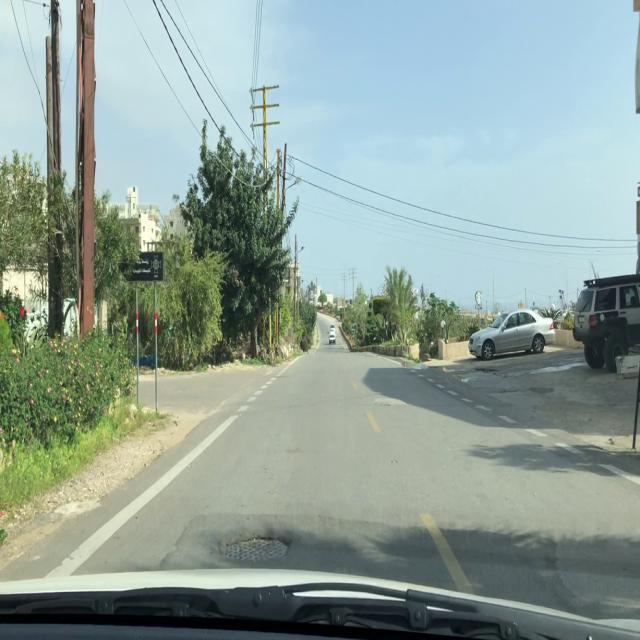pothole: (217, 530, 292, 563)
